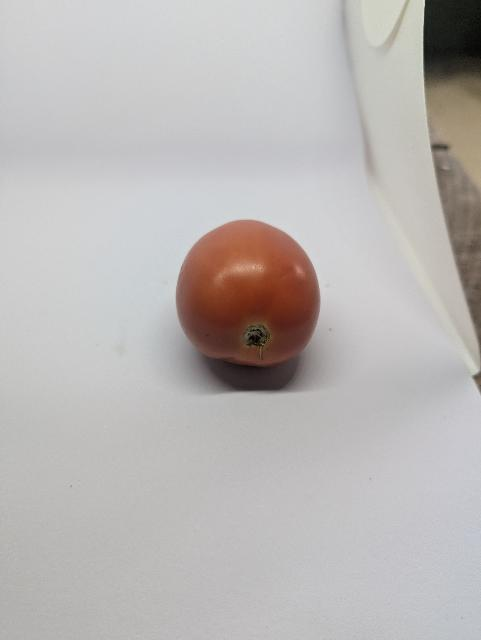red: (171, 218, 329, 383)
